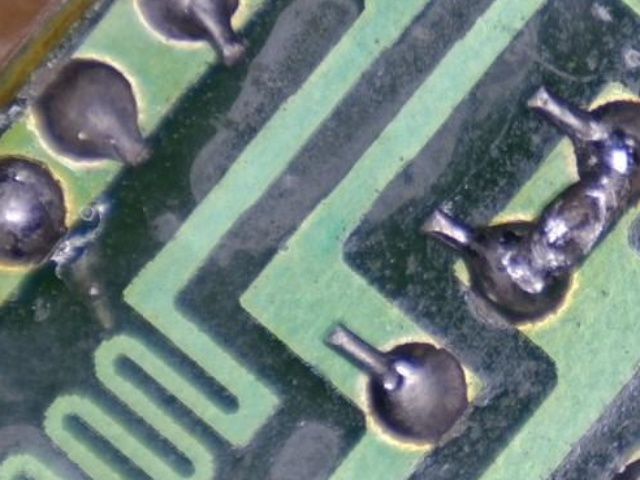pcb_defect: (495, 135, 640, 295)
